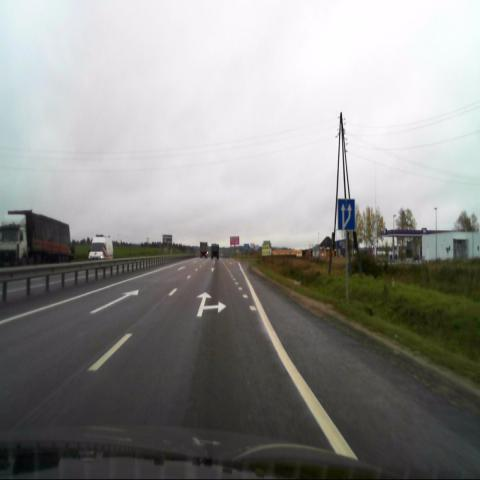5_15_3: (338, 198, 354, 229)
